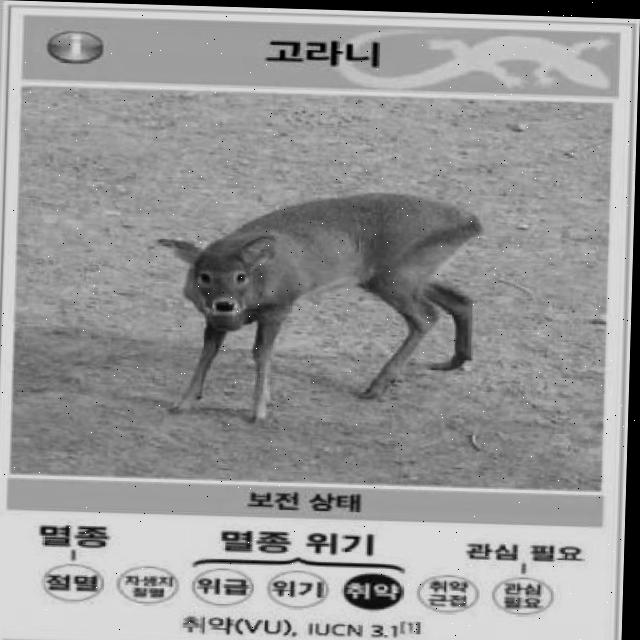Deer: (149, 188, 485, 435)
